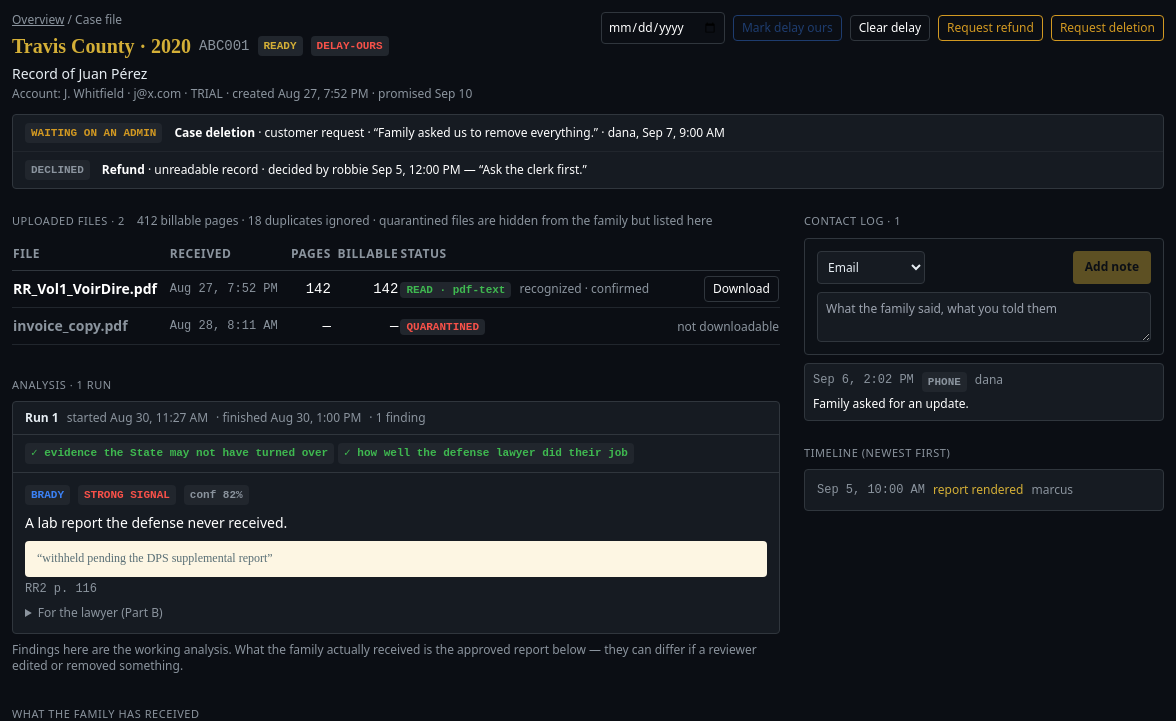
Test: case file › Support asks an admin: the request form posts type, reason, and note
Click the button with test id "request-refund".
click(990, 28)  # box [938,15,1043,41]
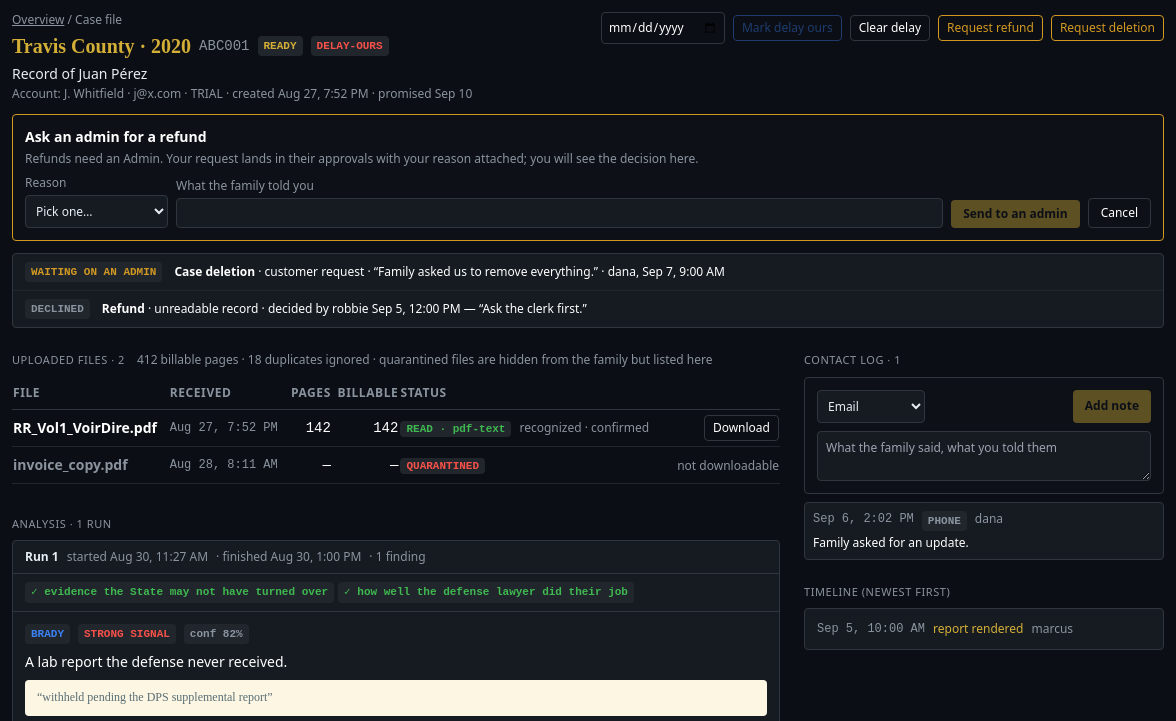
Now the element with test id "request-form" shows "Refunds need an Admin", box [12,114,1164,241]
Now the button with test id "request-send" is disabled, box [951,200,1080,228]
Select "Unreadable record" in the dropdown named "Request reason" at (96, 212), box [25,195,168,228]
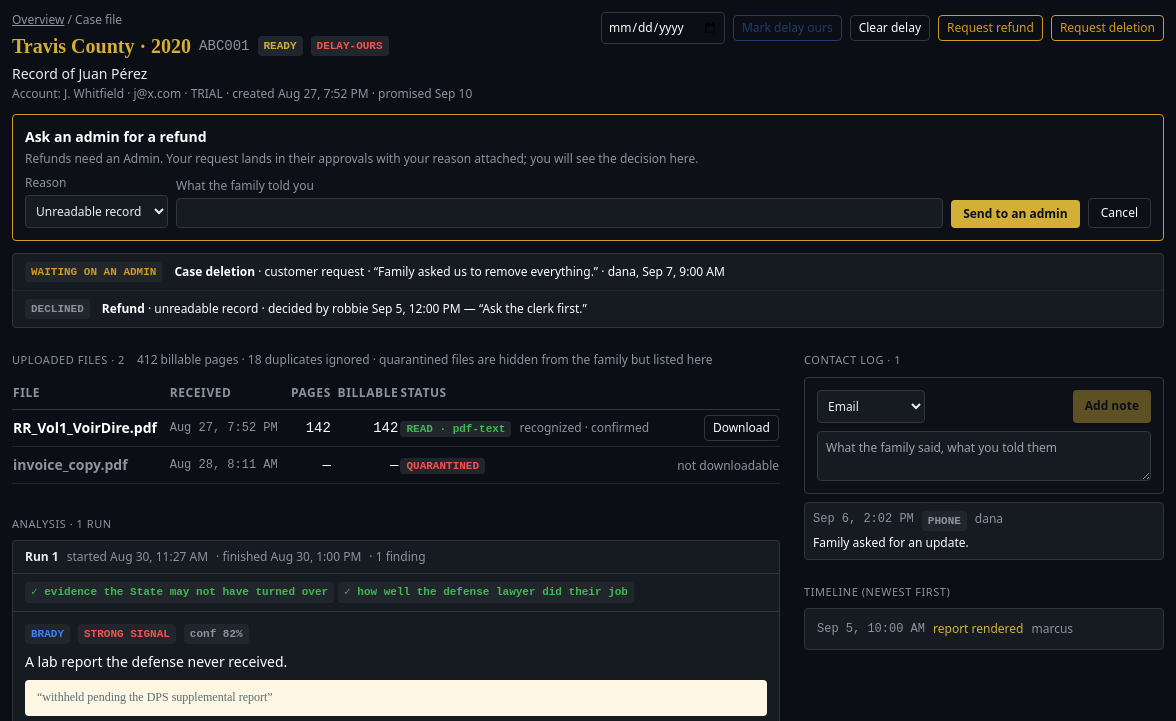
Type "3 of 9 scans unusable" into the field named "Request note".
click(560, 213); type("3 of 9 scans unusable")  # box [176,198,943,228]
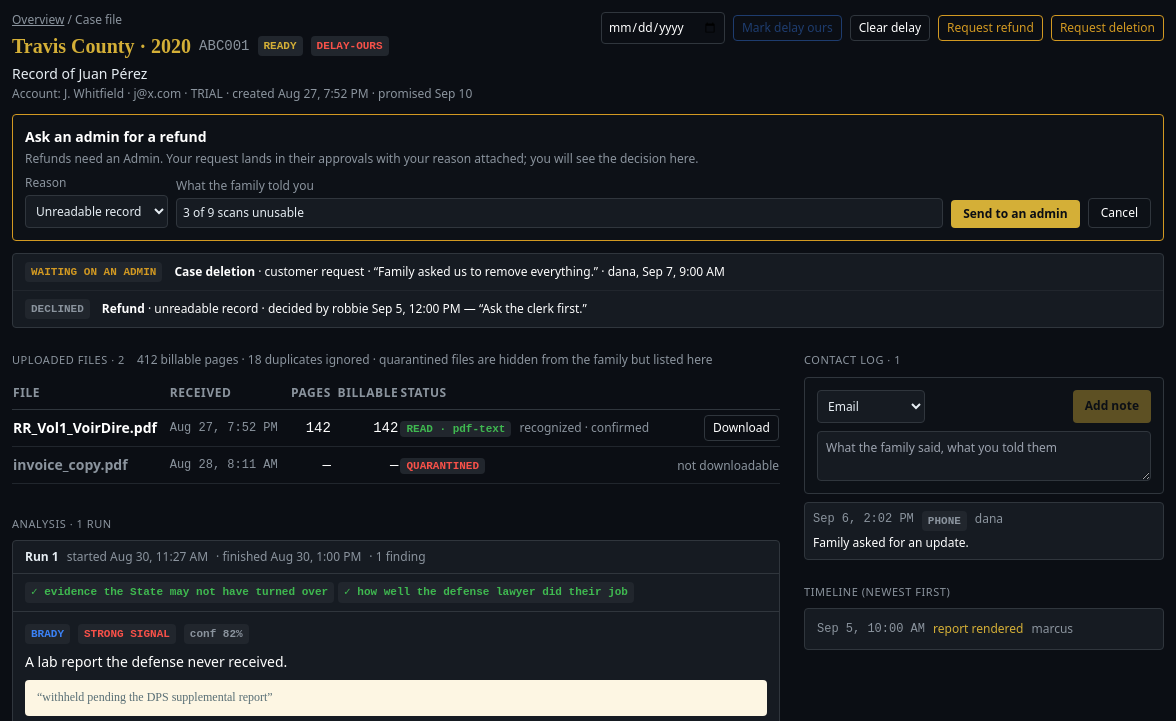
Click the button with test id "request-send".
click(1015, 214)  # box [951,200,1080,228]
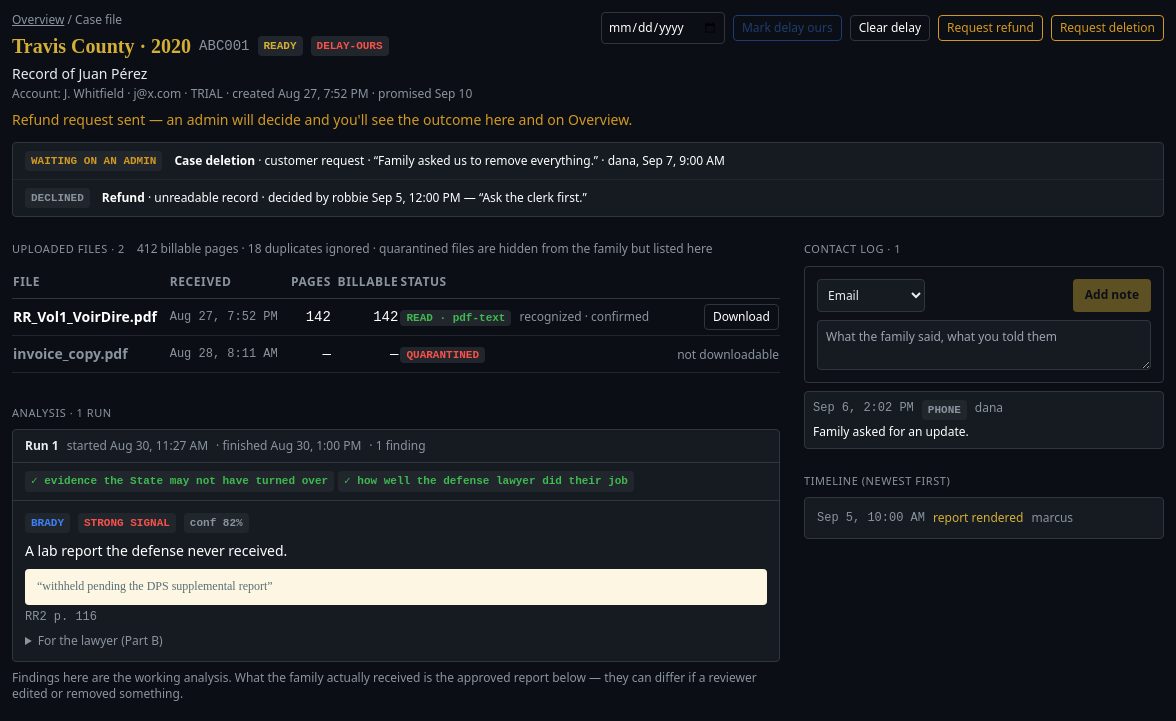
Now the text with test id "notice" shows "Refund request sent", box [12,110,632,129]
